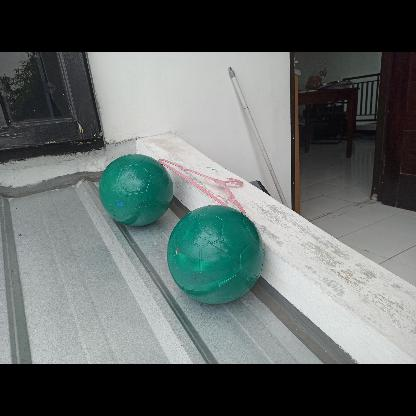green_ball: (167, 204, 265, 302), (98, 150, 172, 226)
